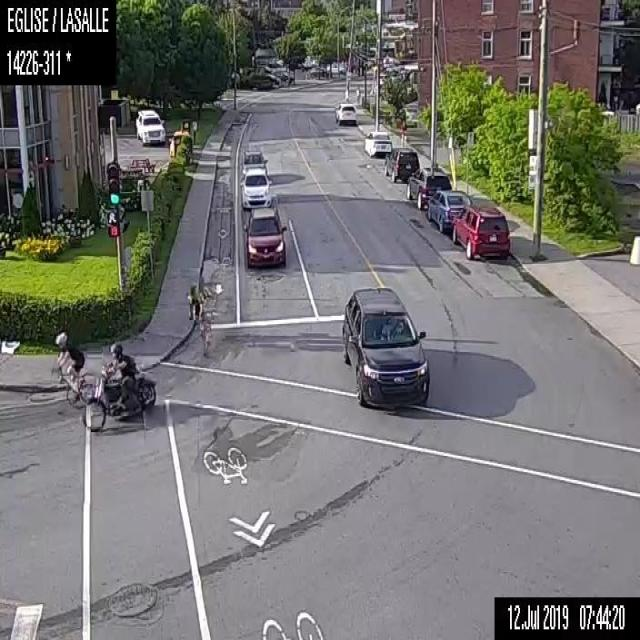cyclist: (28, 329, 90, 403), (187, 280, 211, 358)
pedestrian: (399, 112, 408, 145)
vehicle: (339, 284, 430, 407), (80, 341, 158, 434), (451, 200, 510, 259), (243, 204, 287, 266), (405, 163, 452, 209), (424, 188, 469, 233), (383, 146, 419, 184), (133, 106, 166, 146), (239, 167, 271, 206), (362, 131, 392, 158), (238, 148, 268, 174), (334, 100, 356, 125), (308, 64, 327, 79)
